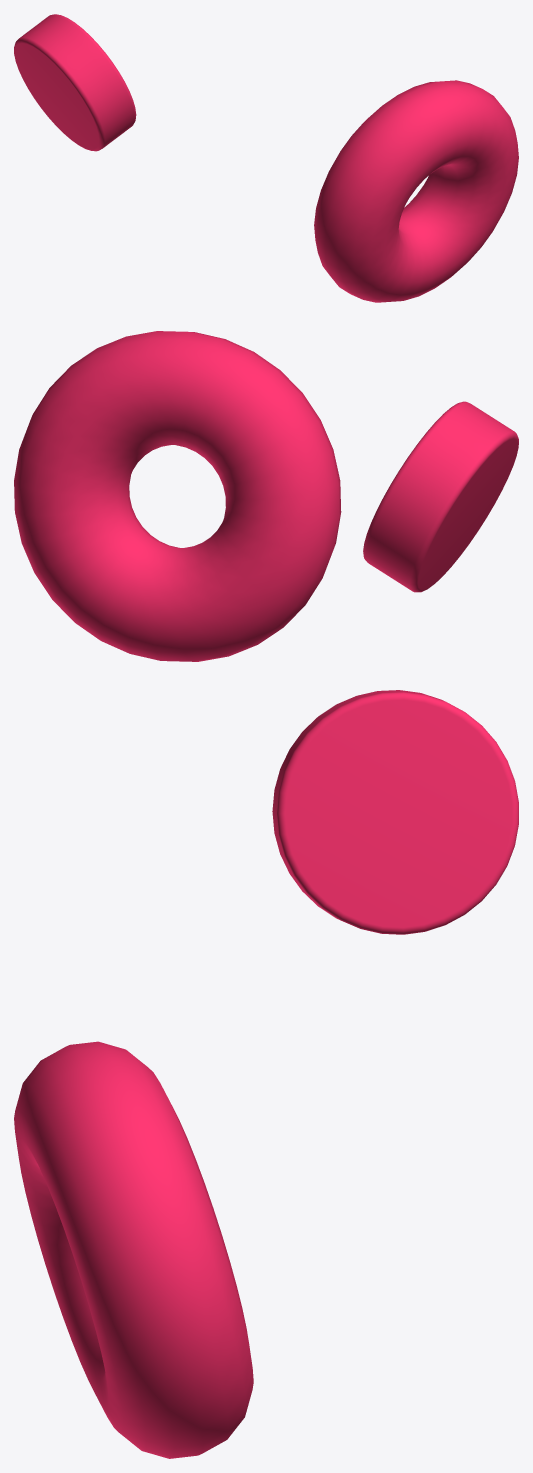
The model's file is candy.fbx.
The picture shows the model from 3 angles, top to bottom: view 1: azimuth 30°, elevation 25°; view 2: azimuth 150°, elevation 25°; view 3: azimuth 270°, elevation 25°; orthographic projection. The views are drawn at different scales.
Visible parts, largest first — view 1: Torus, Cylinder; view 2: Torus, Cylinder; view 3: Torus, Cylinder.
Boxes of the visible parts, left/top/right/bottom form: Torus: left=314, top=80, right=518, bottom=302; Cylinder: left=14, top=14, right=136, bottom=151; Torus: left=14, top=331, right=341, bottom=661; Cylinder: left=363, top=401, right=518, bottom=592; Torus: left=14, top=1041, right=253, bottom=1458; Cylinder: left=272, top=690, right=518, bottom=934.
Bounding box in the file's own units: 118 × 80.33 × 71.48.
